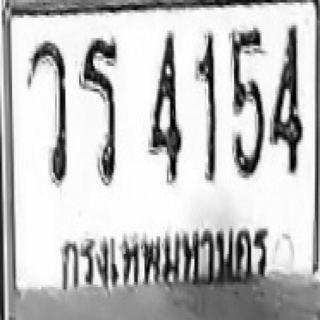A35: (78, 37, 118, 187)
A37: (25, 38, 68, 185)
N01: (194, 33, 218, 183), (194, 32, 217, 171)
N04: (147, 29, 182, 184), (269, 24, 304, 174)
N05: (229, 25, 265, 178)
P04: (55, 222, 273, 293)
